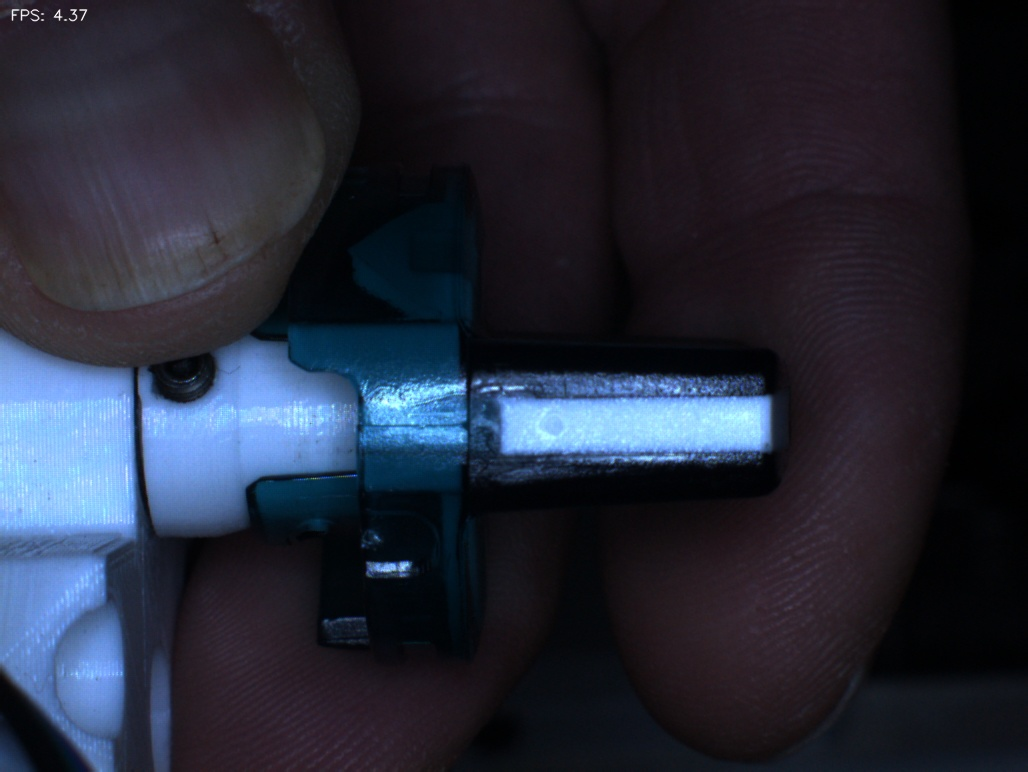DentOk: (327, 215, 393, 313)
